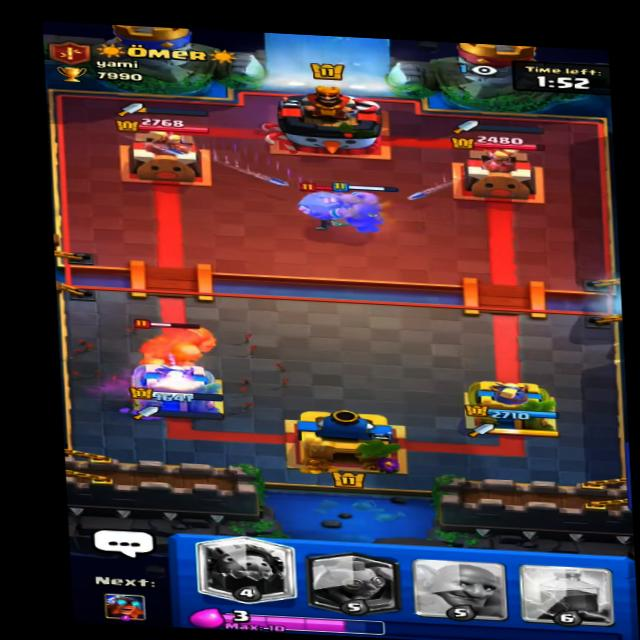arrows: (63, 316, 307, 425)
giant: (111, 314, 233, 378)
